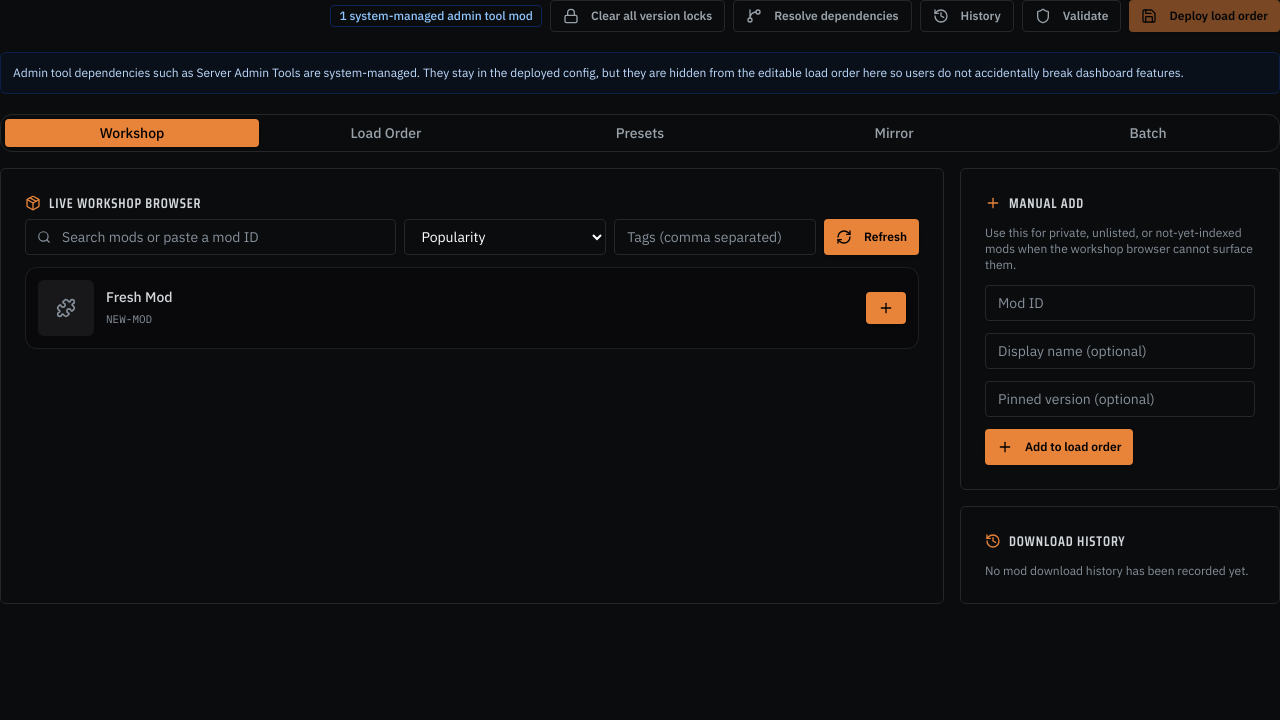
Test: Workshop add enrichment › resolves dependencies for a browse result that declares none
Click the button named "Add Fresh Mod to load order" at (886, 308), box [866,292,906,324]
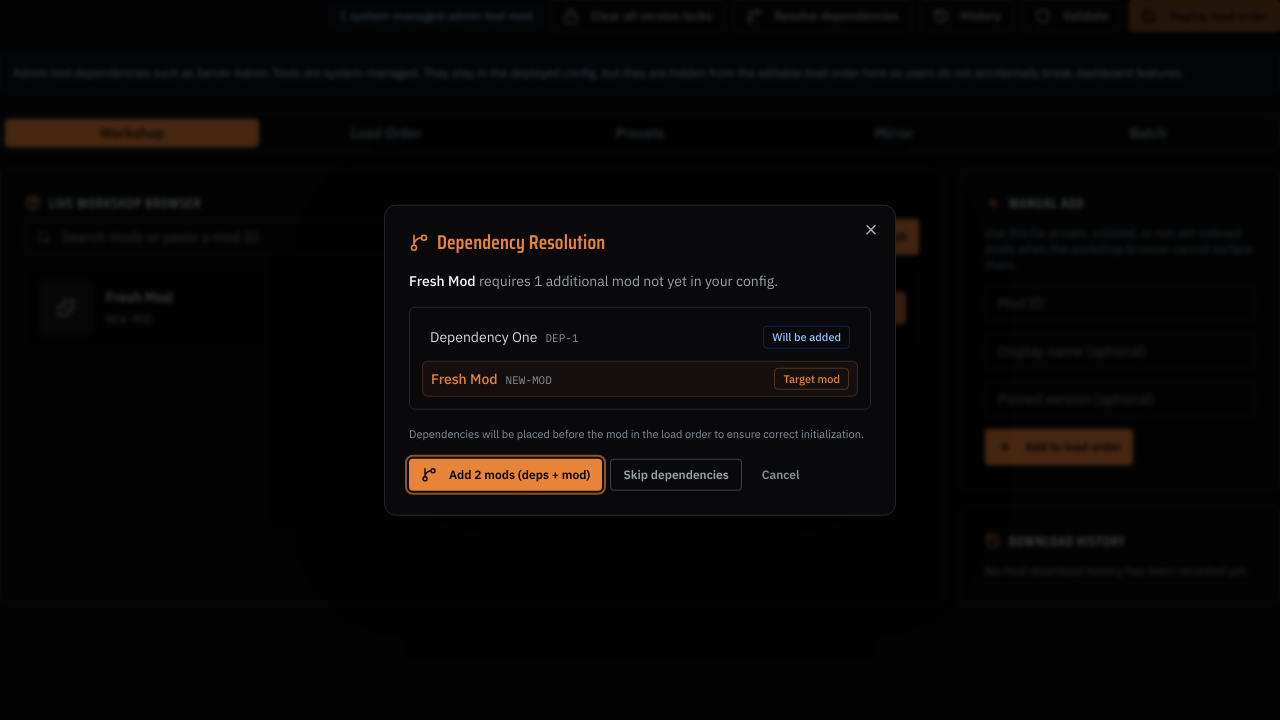
Expected: the heading "Dependency Resolution" is shown, [409,226,605,258]
